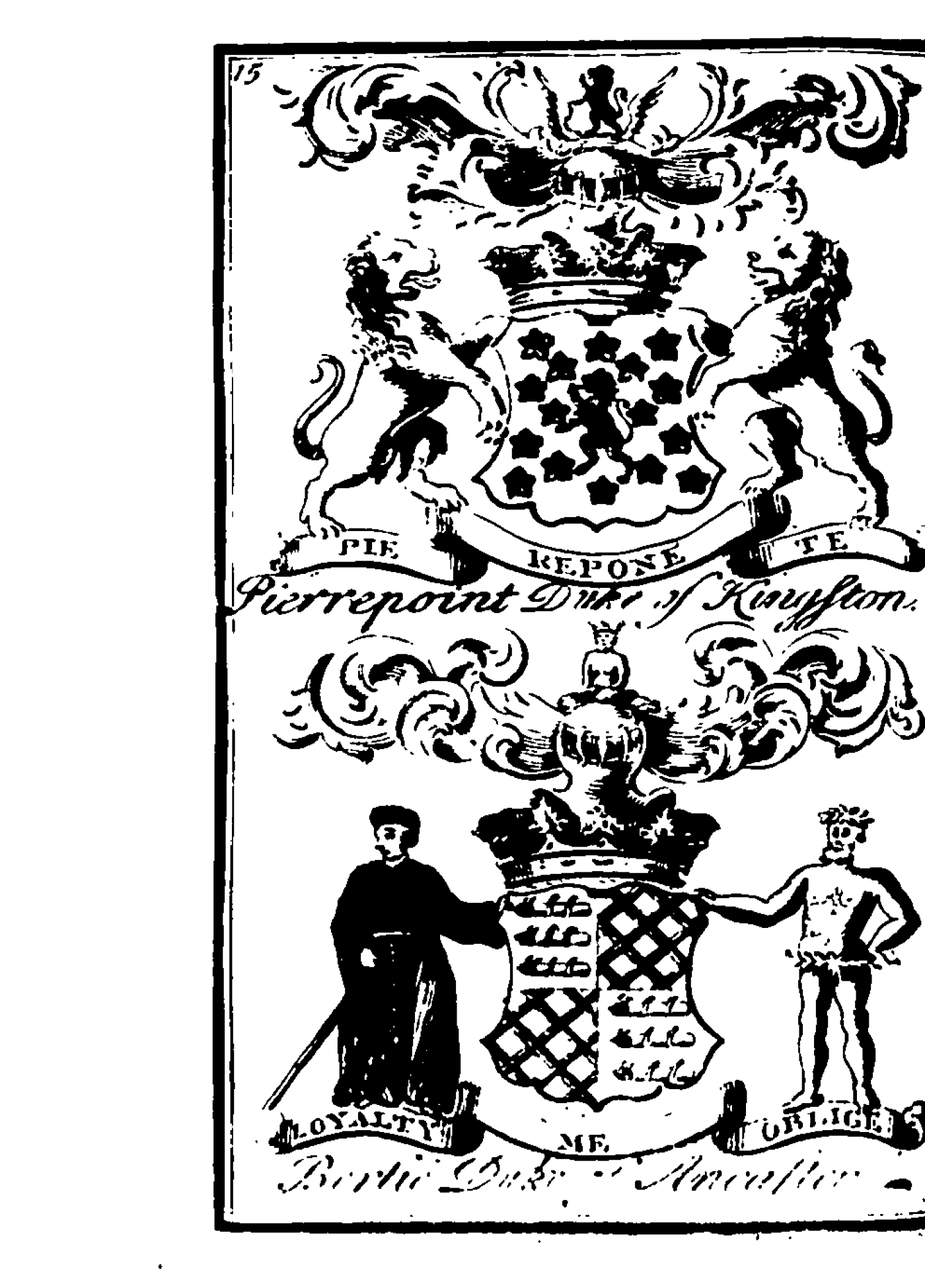coat_of_arms: (228, 624, 925, 1214), (234, 67, 925, 623)
